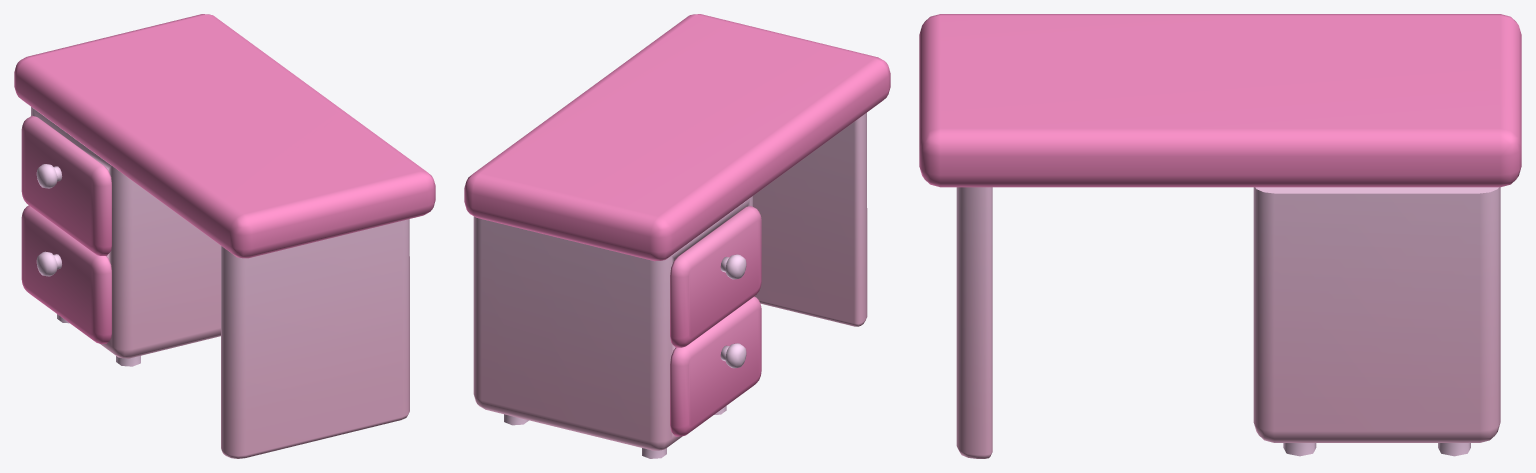
File: Table Study .fbx
3 views of the same model, side by side, from view 1: azimuth 30°, elevation 25°; view 2: azimuth 150°, elevation 25°; view 3: azimuth 270°, elevation 25° (orthographic). The views are drawn at different scales.
Visible parts, largest first — view 1: Work_Table_02; view 2: Work_Table_02; view 3: Work_Table_02.
Boxes of the visible parts, <box> form: Work_Table_02: <box>14,14,435,458</box>; Work_Table_02: <box>464,14,890,458</box>; Work_Table_02: <box>919,14,1521,458</box>.
Size of the model in its own units: 147 by 156 by 257.
Materials: 1 (1 with a texture image).
